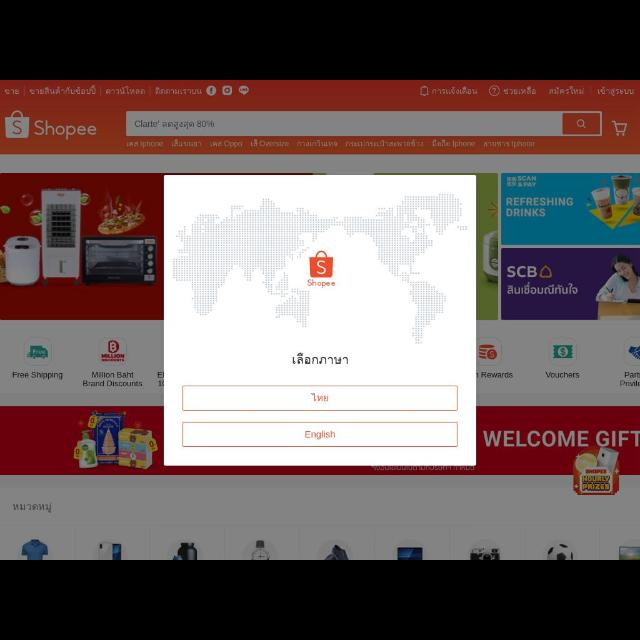backgroundimage: (166, 174, 476, 378), (0, 406, 638, 476), (4, 172, 164, 322), (502, 173, 638, 245), (504, 249, 638, 319), (570, 453, 622, 497)
button: (564, 112, 602, 134)
icon: (610, 120, 630, 136), (574, 116, 588, 130), (538, 266, 552, 280), (488, 85, 500, 97), (419, 85, 429, 98), (206, 85, 217, 96), (222, 84, 232, 96), (239, 86, 249, 96), (506, 177, 516, 186)
iframe: (165, 176, 477, 467)
image: (2, 109, 100, 147), (304, 246, 338, 292), (22, 335, 56, 365), (100, 335, 128, 365), (15, 538, 53, 560), (316, 536, 352, 558), (550, 338, 578, 364), (392, 539, 426, 559), (469, 539, 503, 559), (244, 539, 280, 557), (96, 539, 126, 559), (478, 341, 500, 367), (171, 538, 199, 558), (623, 337, 639, 367), (546, 543, 572, 559), (620, 543, 638, 559)
input: (126, 112, 562, 134)
text: (480, 426, 636, 449), (82, 369, 146, 391), (504, 199, 574, 219), (133, 117, 215, 129), (345, 138, 423, 150), (507, 285, 578, 297), (292, 352, 348, 366), (11, 498, 54, 514), (433, 84, 479, 98), (28, 86, 98, 95), (9, 371, 63, 382), (598, 84, 634, 100), (106, 84, 146, 98), (304, 428, 338, 444), (431, 139, 475, 151), (126, 138, 166, 150), (250, 138, 290, 150), (296, 139, 340, 149), (154, 86, 202, 95), (506, 264, 536, 278), (550, 88, 586, 99), (171, 138, 203, 150), (545, 369, 581, 379), (505, 85, 537, 96), (484, 142, 538, 148), (478, 372, 512, 380), (210, 140, 243, 148), (622, 372, 638, 388), (519, 174, 537, 188), (312, 392, 328, 404), (5, 84, 18, 96)
textbutton: (184, 386, 458, 412), (182, 422, 458, 446)
toolbar: (1, 82, 640, 154)
